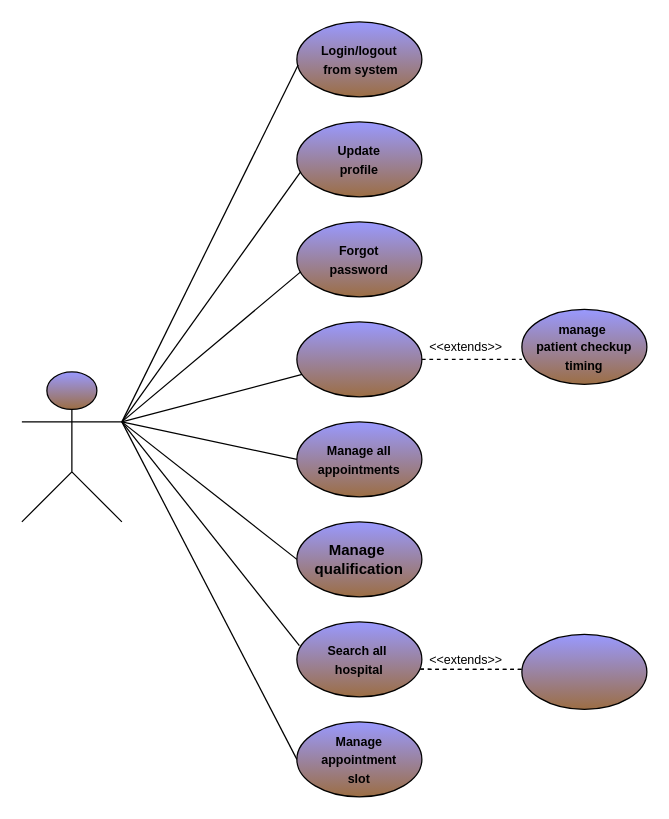
This 669x819 diagram has some shape labels left out. Here are the shapes that lost their labels. From the top down, the centre of each, then its label:
At pixel 359 359: "Today appointments".
At pixel 71 446: "Doctor".
At pixel 584 671: "Search Doctors".
